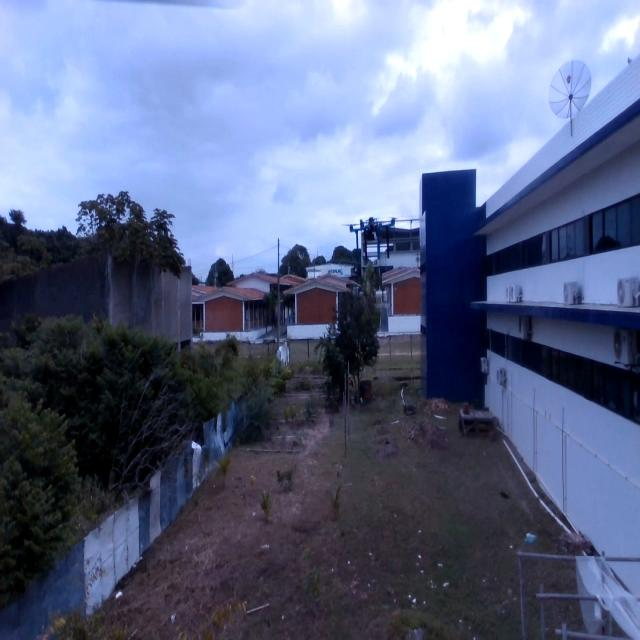-uav-: (342, 205, 402, 271)
